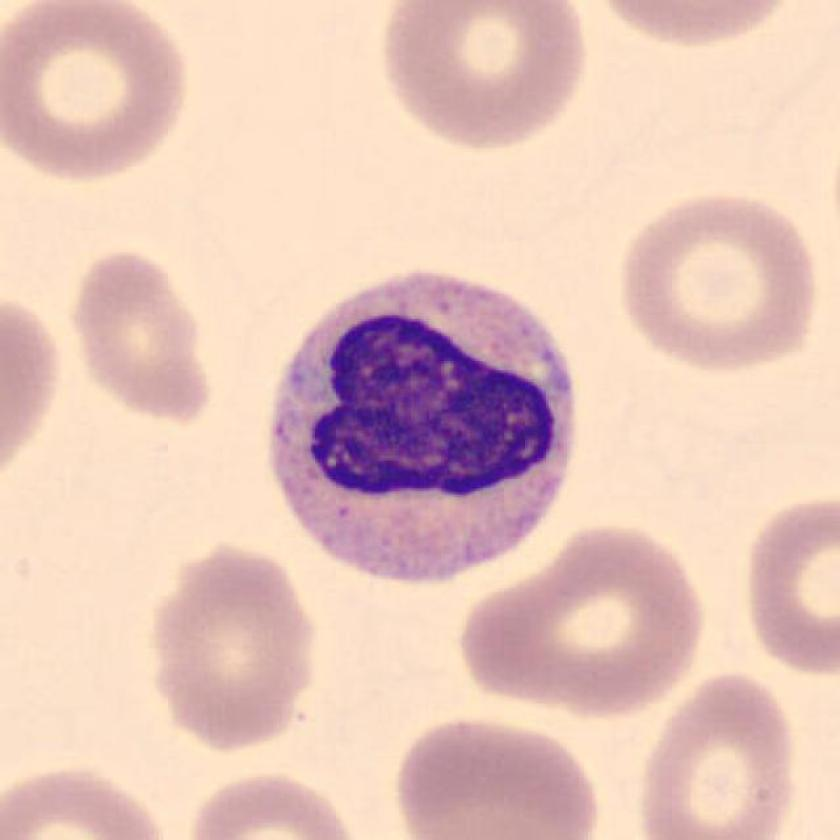neutrophil: (272, 270, 579, 580)
